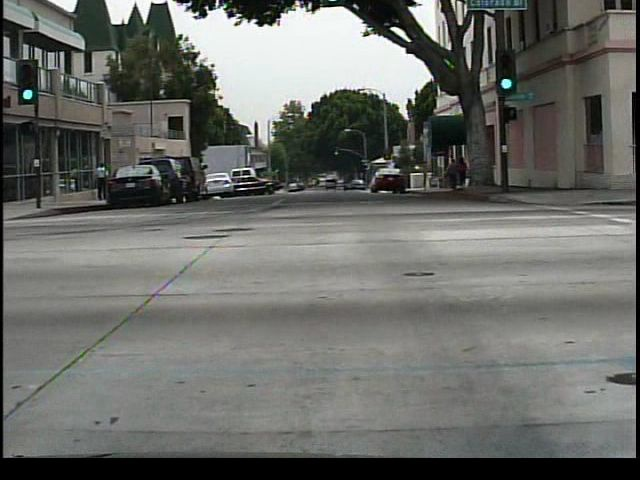person: (95, 155, 110, 205), (442, 159, 460, 193), (463, 154, 464, 195)
